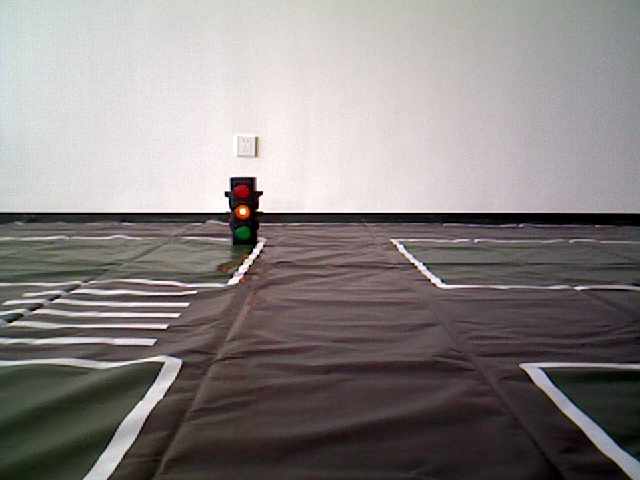yellow: (224, 176, 261, 251)
